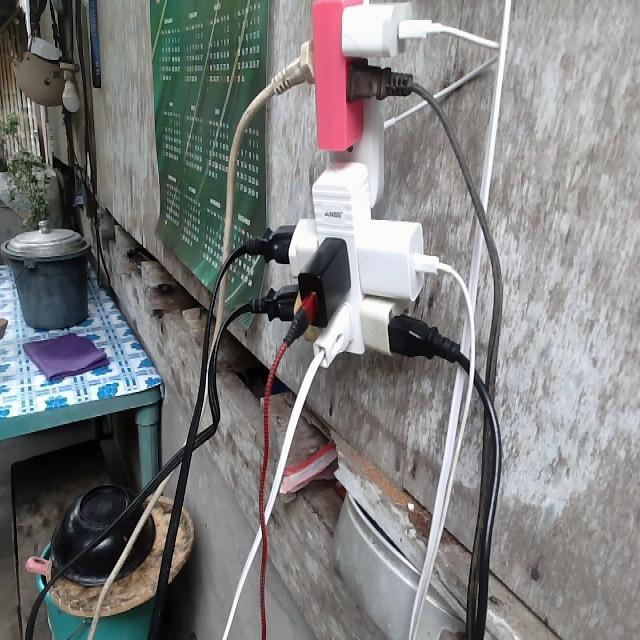-: (253, 0, 448, 361)
